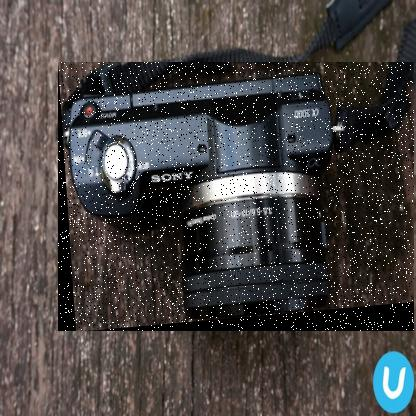Camera: (59, 63, 416, 333)
